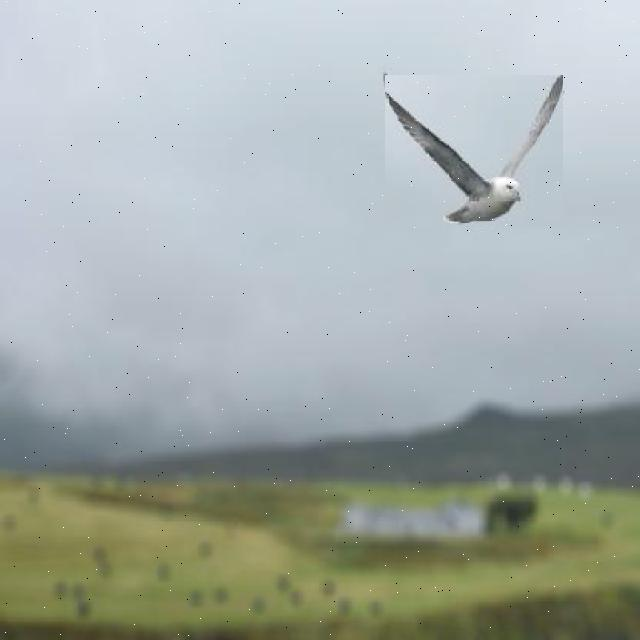bird: (385, 75, 563, 227)
